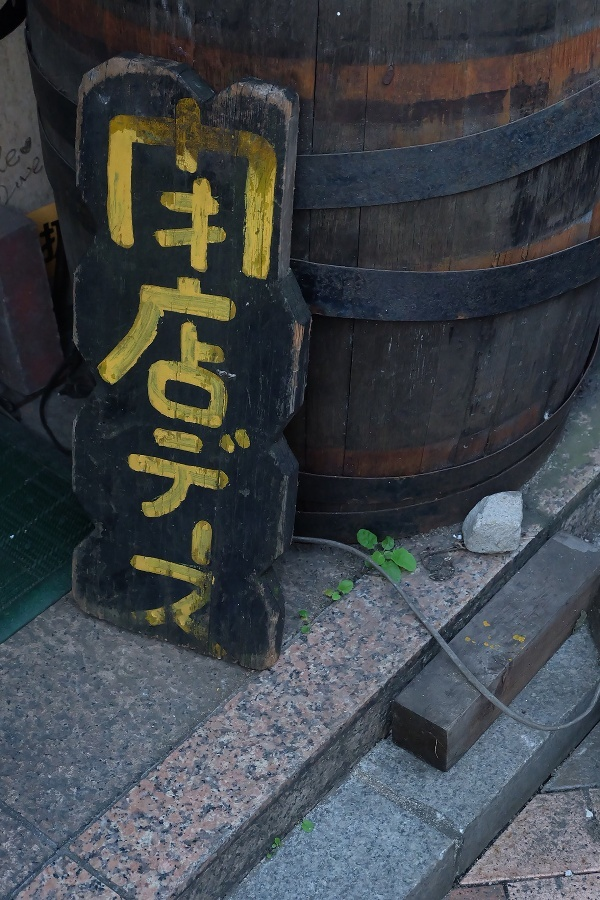text: (113, 83, 128, 670), (129, 83, 144, 670), (145, 83, 160, 670), (161, 83, 176, 670), (177, 83, 192, 670), (193, 83, 208, 670), (209, 83, 224, 670), (225, 83, 240, 670), (241, 83, 256, 670), (257, 83, 272, 670), (273, 83, 285, 670), (106, 83, 112, 670)
